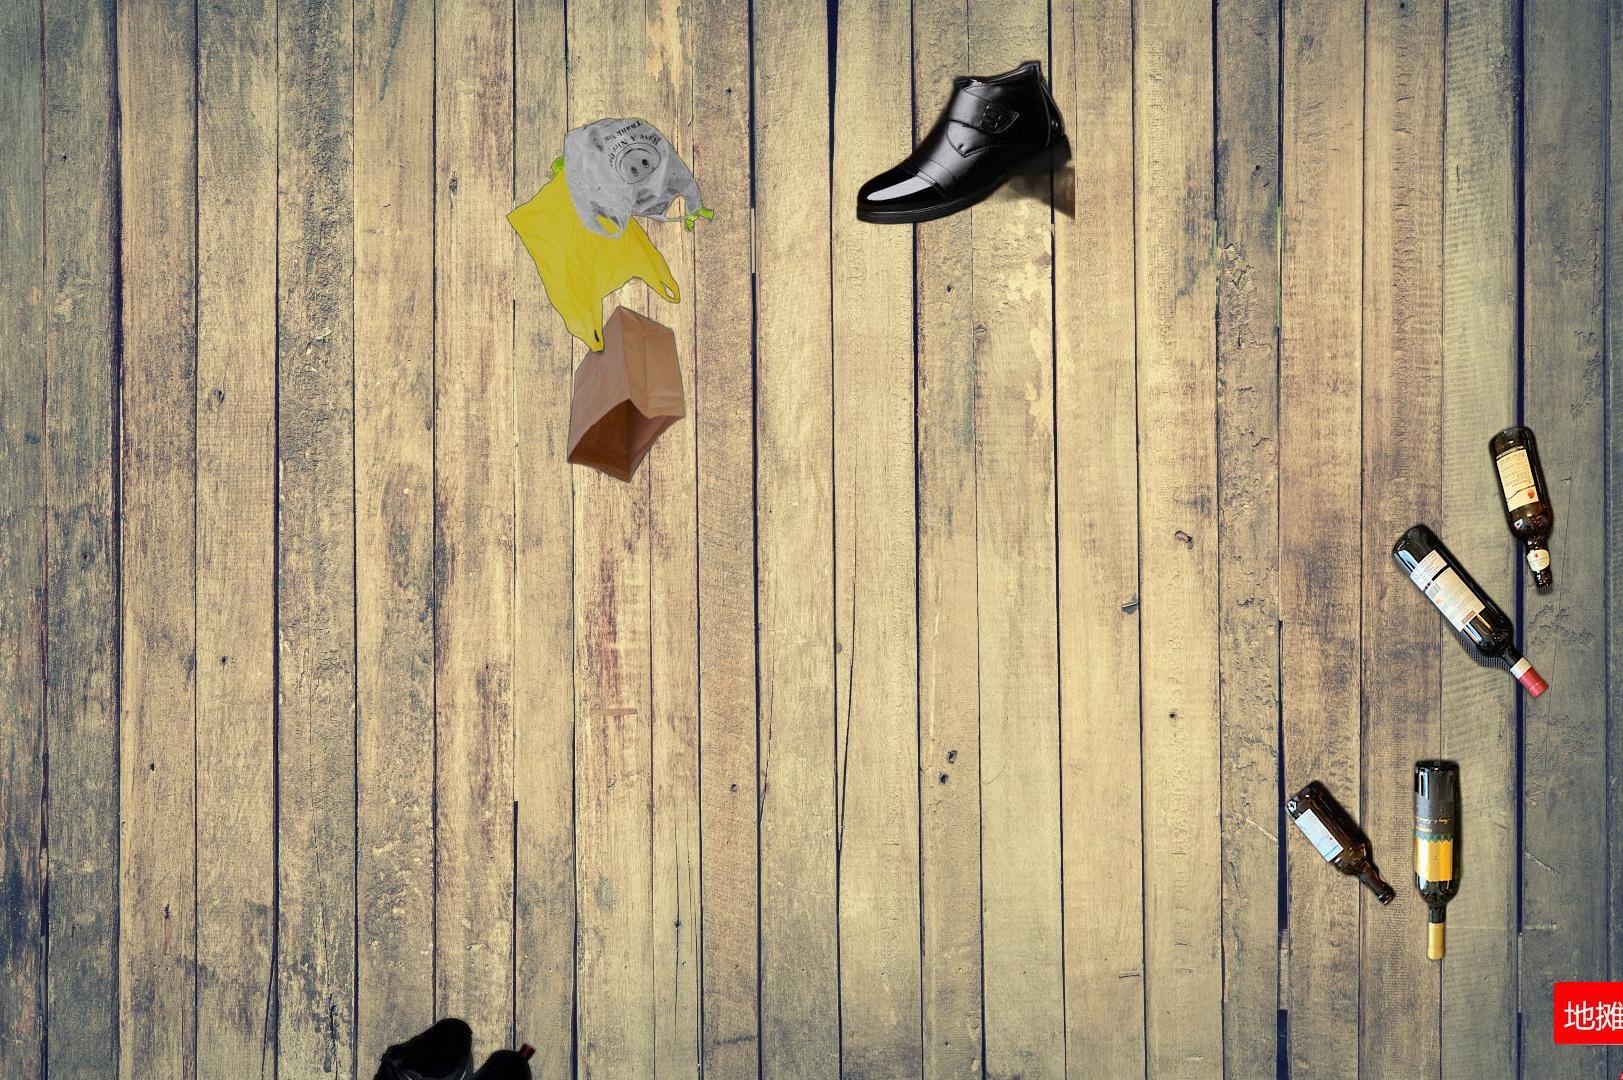battery: (1554, 982, 1623, 1080)
glass: (1281, 419, 1559, 965)
metal-cans: (1618, 101, 1623, 241)
paper-bag: (564, 303, 743, 487)
plastic-bag: (502, 115, 717, 374)
shoes: (854, 57, 1075, 253), (293, 1012, 545, 1080)
